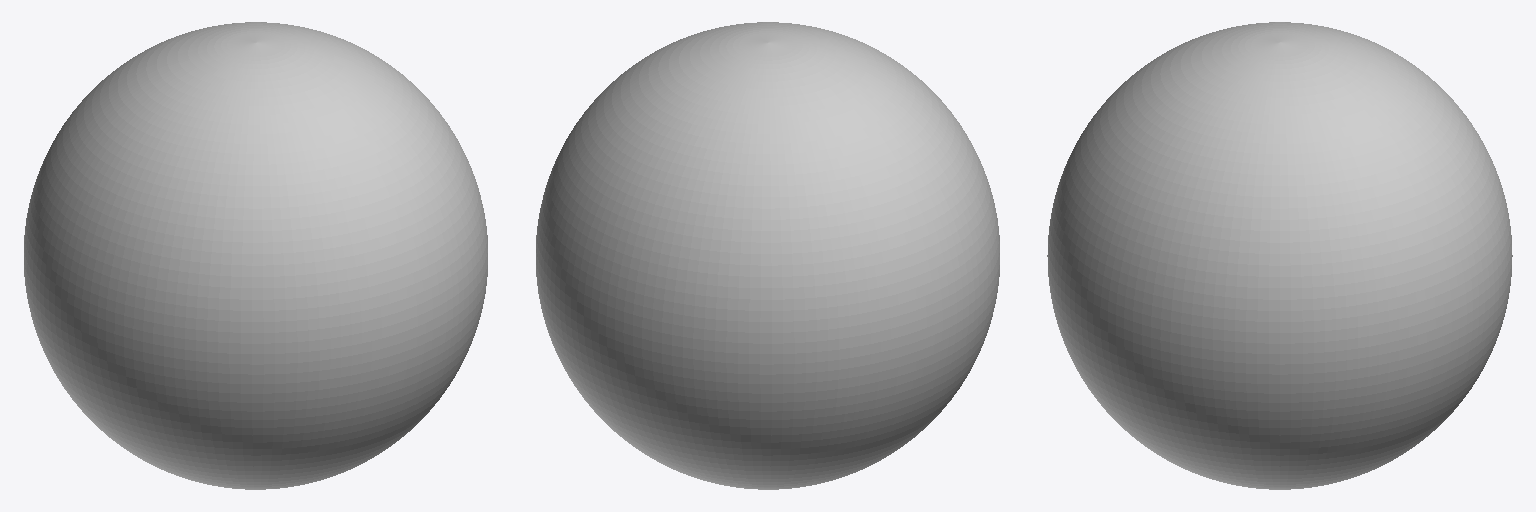
The model's file is VideoSphere.obj.
The picture shows the model from 3 angles: view 1: azimuth 30°, elevation 25°; view 2: azimuth 150°, elevation 25°; view 3: azimuth 270°, elevation 25°; orthographic projection.
Parts seen in each view (by area): view 1: SpherePoles_Sphere.001; view 2: SpherePoles_Sphere.001; view 3: SpherePoles_Sphere.001.
Boxes of the visible parts, box(x1,y1,x2,y2) form: SpherePoles_Sphere.001: box(24, 22, 487, 489); SpherePoles_Sphere.001: box(536, 22, 999, 489); SpherePoles_Sphere.001: box(1047, 22, 1512, 489).
Size of the model in its own units: 1.97 by 2 by 1.97.